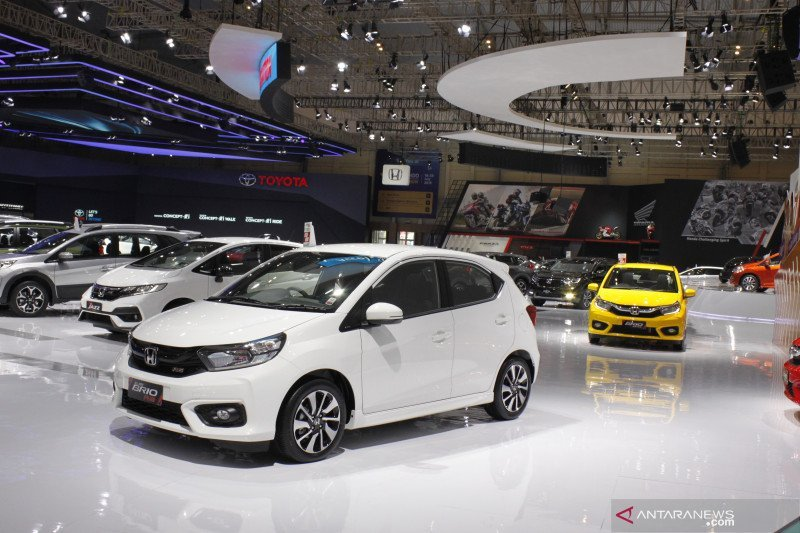mobil: (125, 241, 554, 468), (588, 262, 693, 354)
